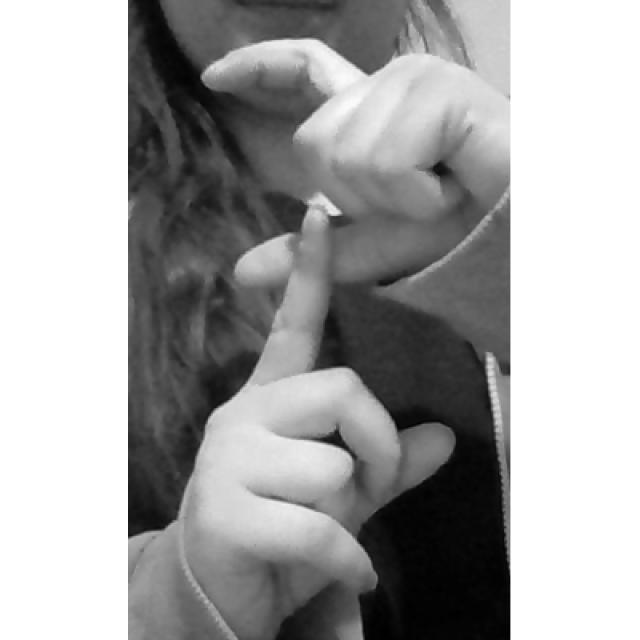C_: (189, 33, 509, 640)
